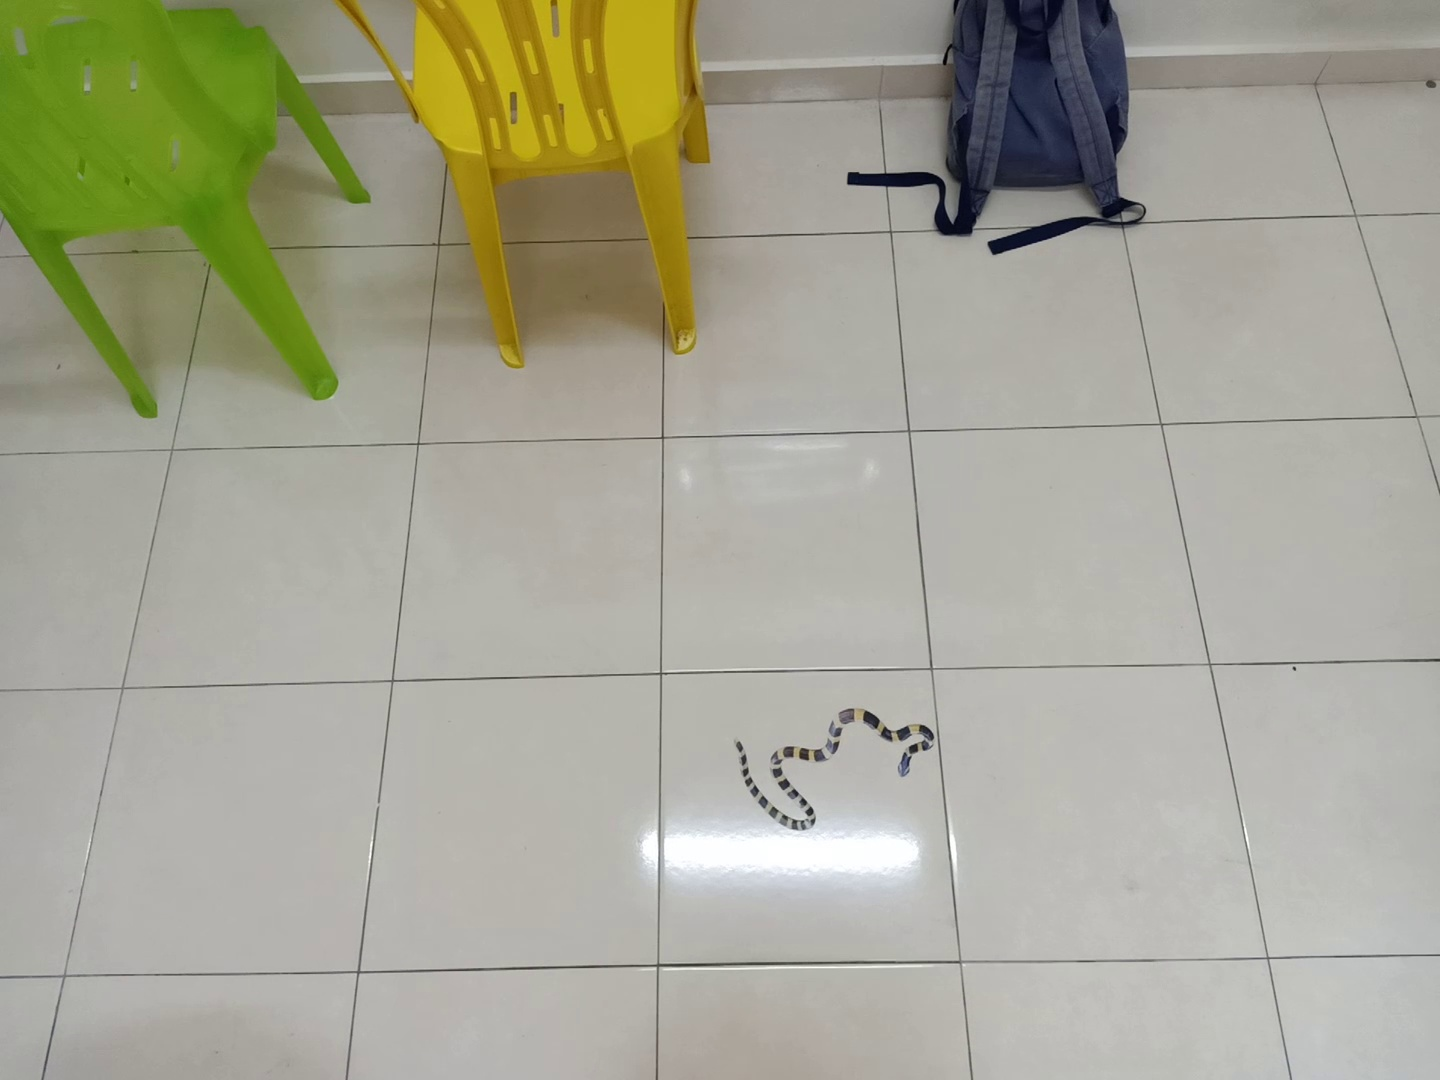snake: (730, 700, 945, 835)
